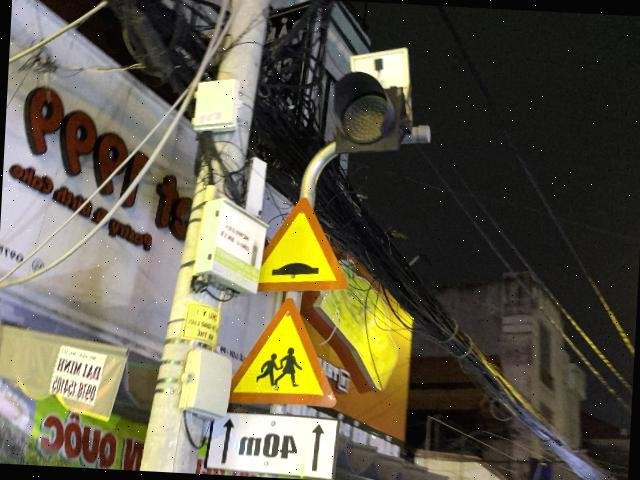duong-co-go-giam-toc: (258, 195, 354, 296)
tre-em-qua-duong: (230, 295, 343, 408)
